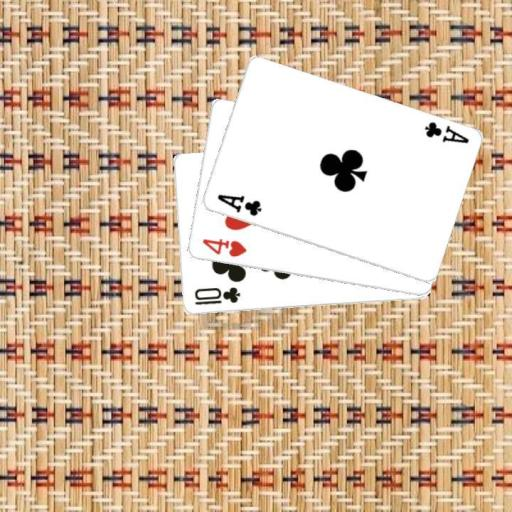10C: (191, 285, 242, 308)
4H: (199, 235, 248, 259)
AC: (214, 191, 263, 218), (420, 119, 470, 145)
